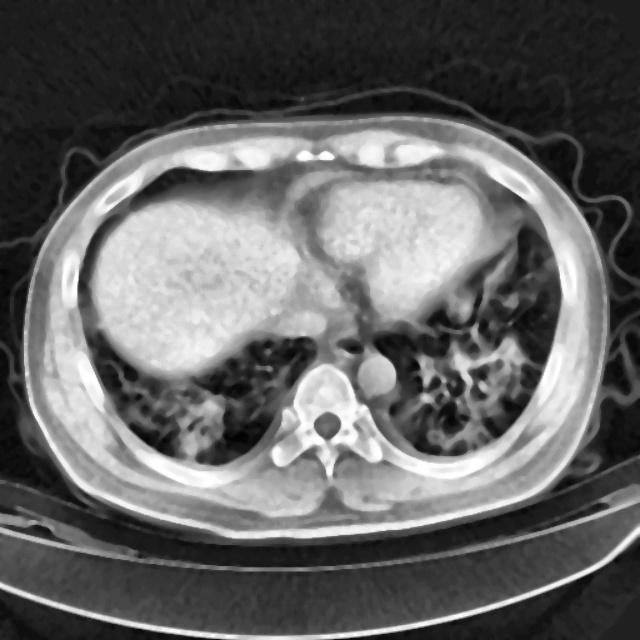covid: (20, 109, 611, 543)
